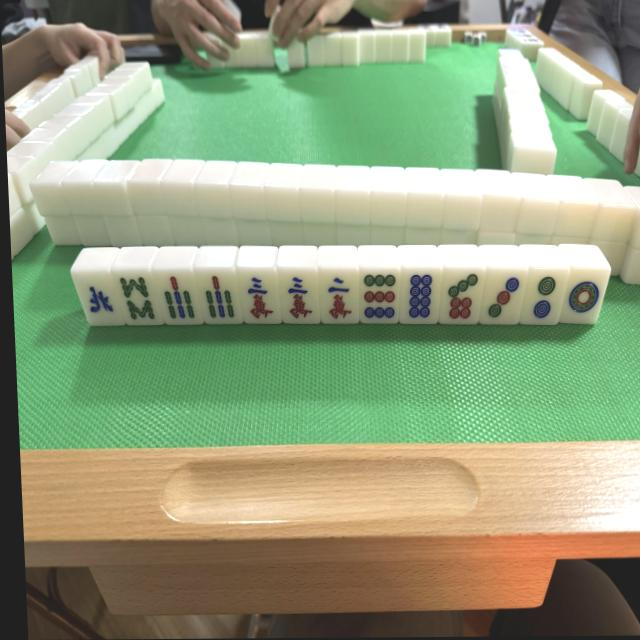m2: (319, 270, 358, 323)
m3: (238, 269, 279, 323), (278, 269, 318, 323)
north: (84, 271, 114, 326)
s7: (197, 269, 239, 324), (158, 272, 199, 325)
s8: (113, 272, 158, 326)
t1: (558, 267, 612, 324)
t2: (517, 270, 571, 326)
t3: (480, 272, 528, 326)
t7: (440, 269, 486, 323)
t8: (399, 270, 443, 323)
t9: (357, 270, 399, 322)
